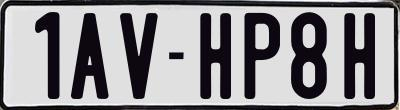1: (34, 12, 59, 101)
8: (290, 9, 328, 98)
A: (69, 11, 113, 102)
H: (343, 11, 380, 99), (198, 13, 232, 105)
P: (242, 10, 279, 99)
V: (117, 11, 156, 97)
